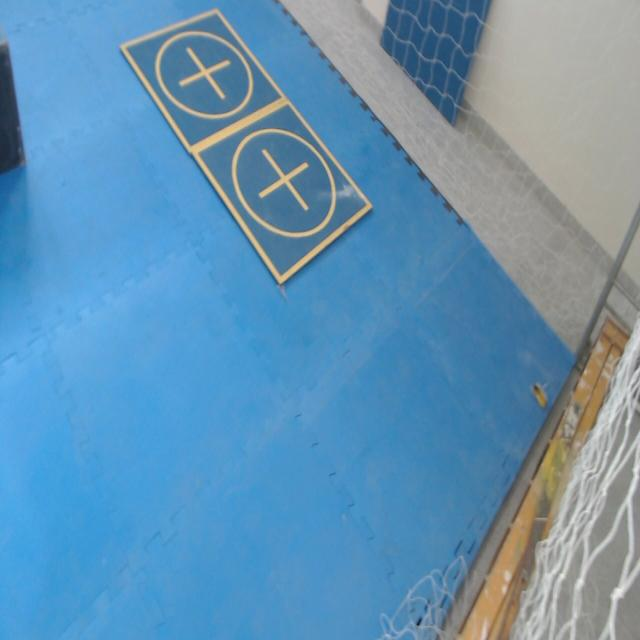base_pouso: (190, 95, 375, 288), (119, 7, 289, 153)
